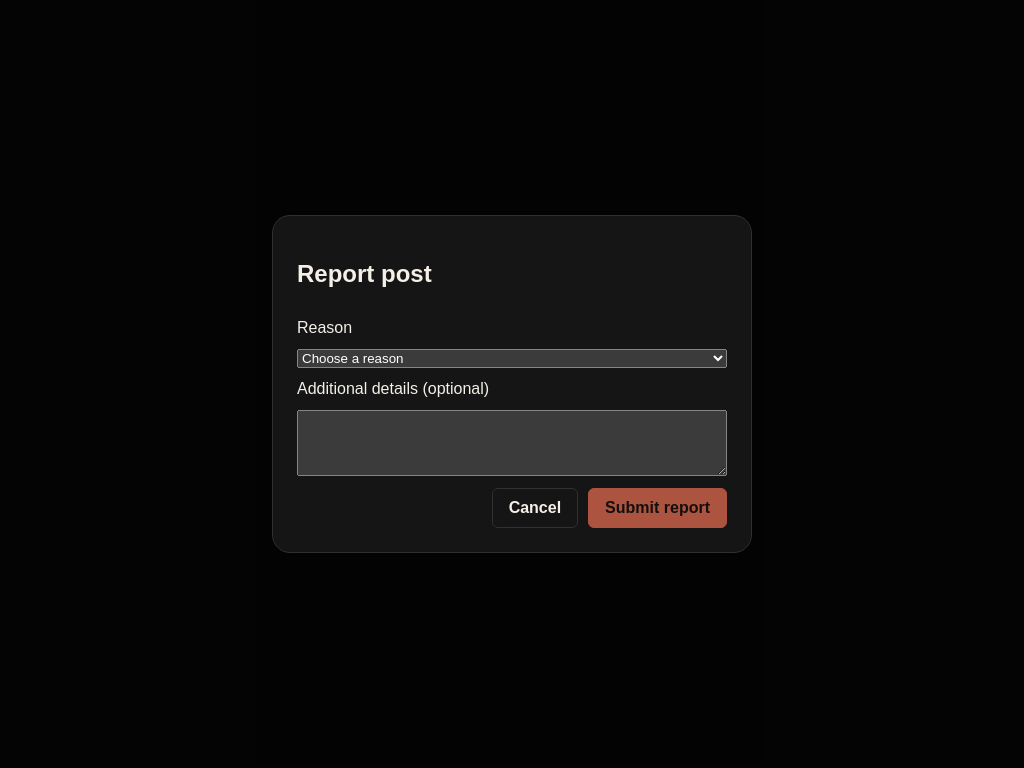
Test: ReportDialog › retains the form and surfaces API failure
Select "Other" in the dropdown labelled "Reason": (512, 359) [297,349,727,368]
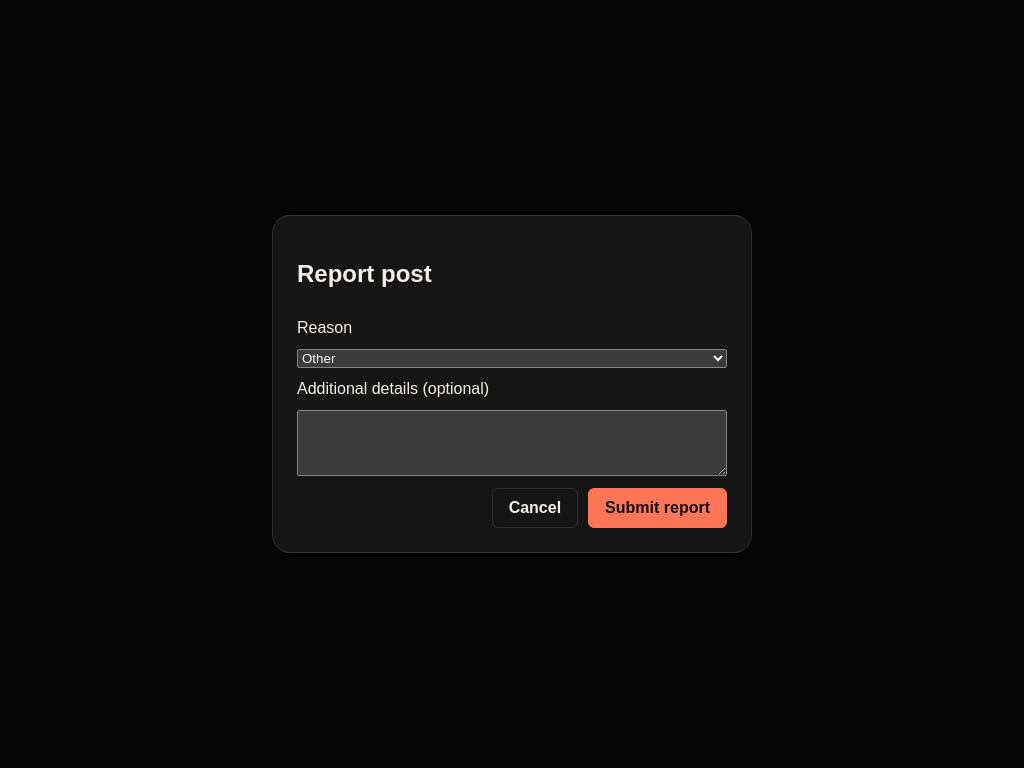
Click the button "Submit report": (658, 508) [588,488,727,528]
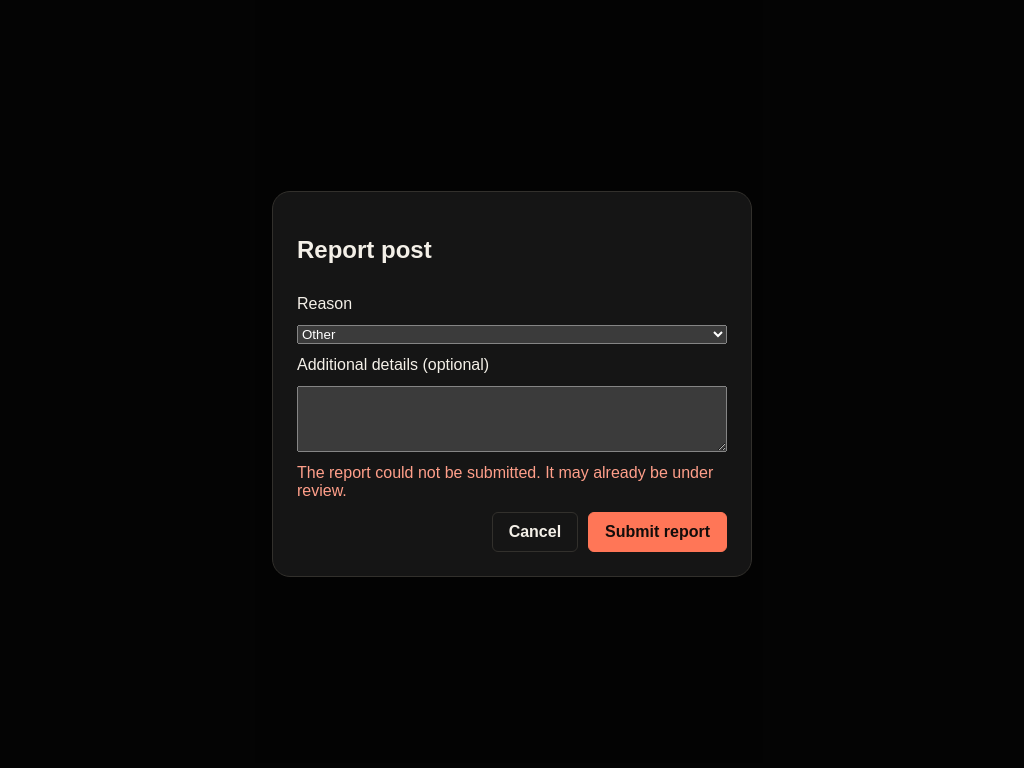
Result: the message shows "could not be submitted" at [297,464,713,499]
